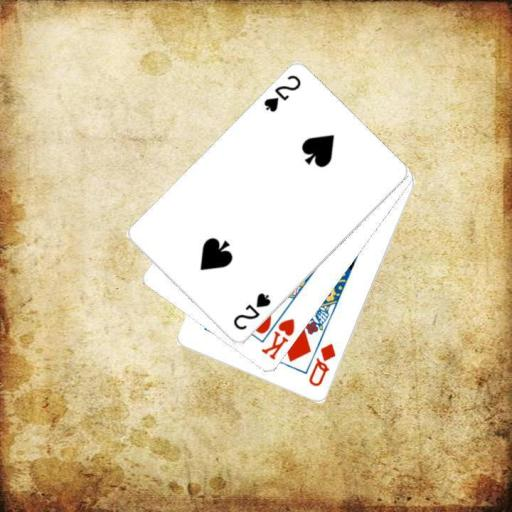card-corner: (258, 315, 297, 362), (260, 72, 303, 114), (230, 290, 272, 332), (305, 340, 338, 388)
